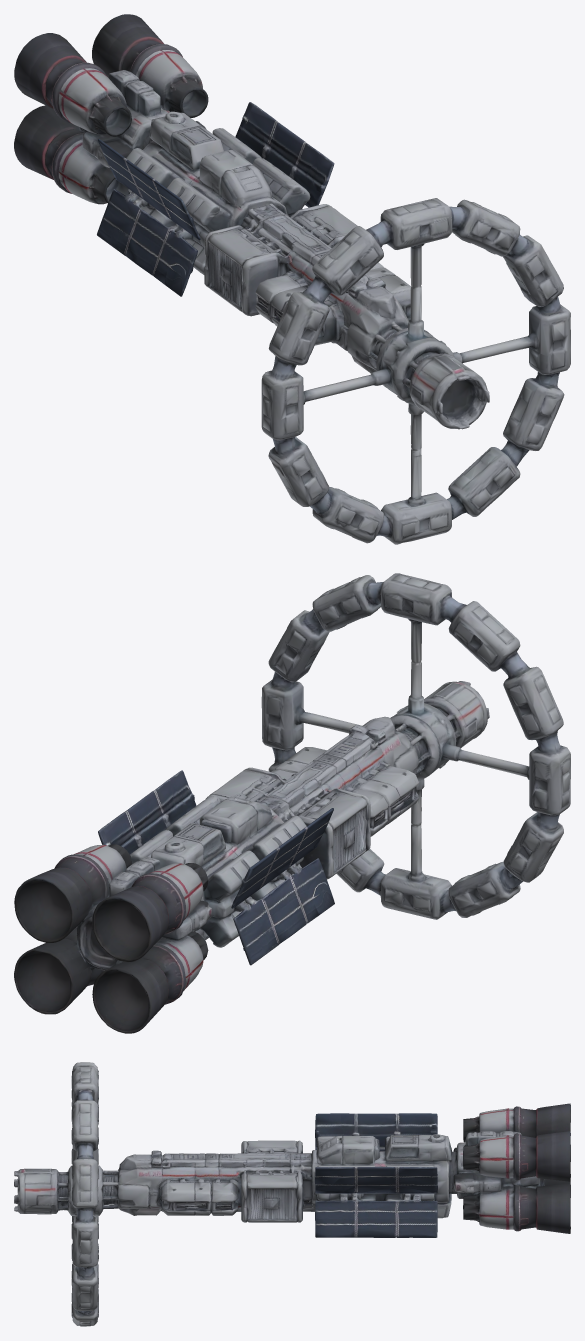
The model's file is argo.glb.
The picture shows the model from 3 angles, top to bottom: view 1: azimuth 30°, elevation 25°; view 2: azimuth 150°, elevation 25°; view 3: azimuth 270°, elevation 25°; orthographic projection. The views are drawn at different scales.
Parts seen in each view (by area): view 1: tripo_node_414206bd-bb52-46ea-9a55-068dffcfa0c5; view 2: tripo_node_414206bd-bb52-46ea-9a55-068dffcfa0c5; view 3: tripo_node_414206bd-bb52-46ea-9a55-068dffcfa0c5.
Part boxes in pixels (x1,y1,x2,y2): tripo_node_414206bd-bb52-46ea-9a55-068dffcfa0c5: (14, 14, 570, 544); tripo_node_414206bd-bb52-46ea-9a55-068dffcfa0c5: (14, 573, 570, 1033); tripo_node_414206bd-bb52-46ea-9a55-068dffcfa0c5: (14, 1062, 570, 1326).
Size of the model in its own units: 0.4535 by 0.4741 by 0.9998.
1 material, 1 textured.
